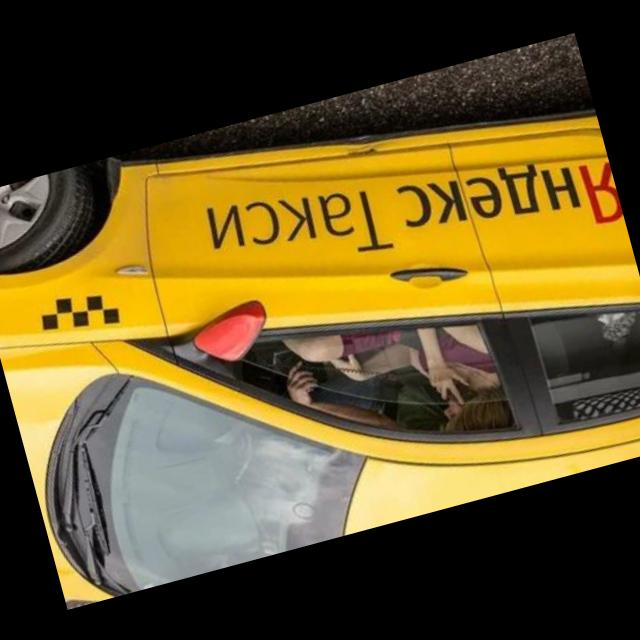taxi: (1, 32, 640, 609)
